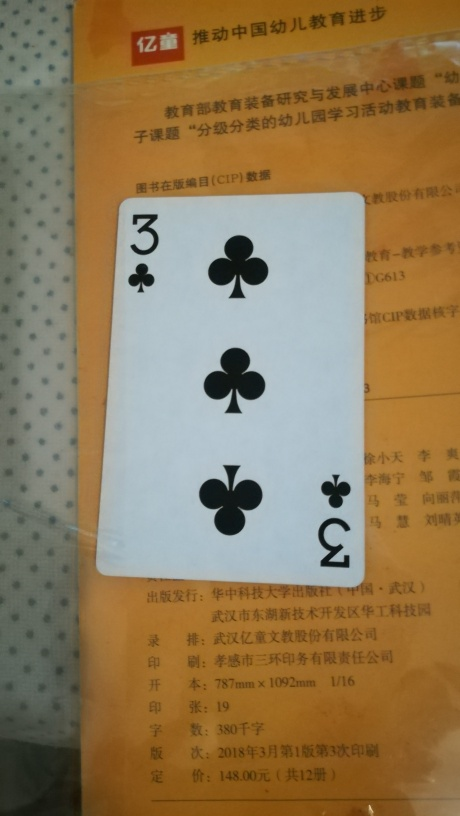mh 3: (99, 192, 369, 590)
